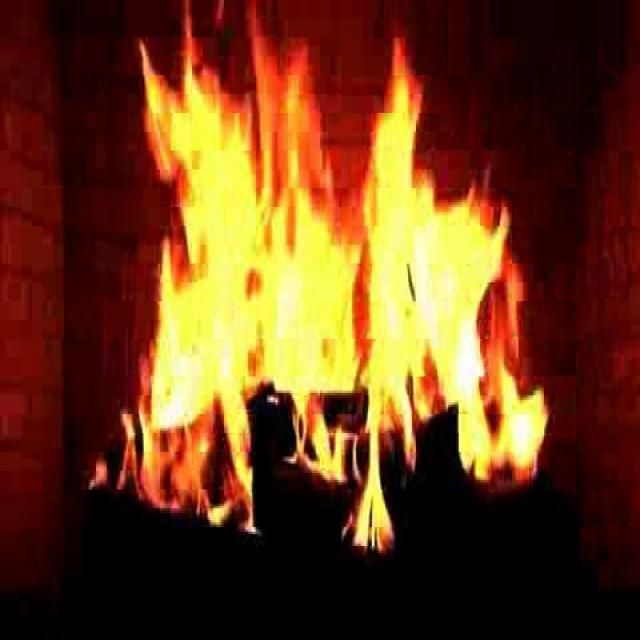Fire: (99, 39, 552, 558)
